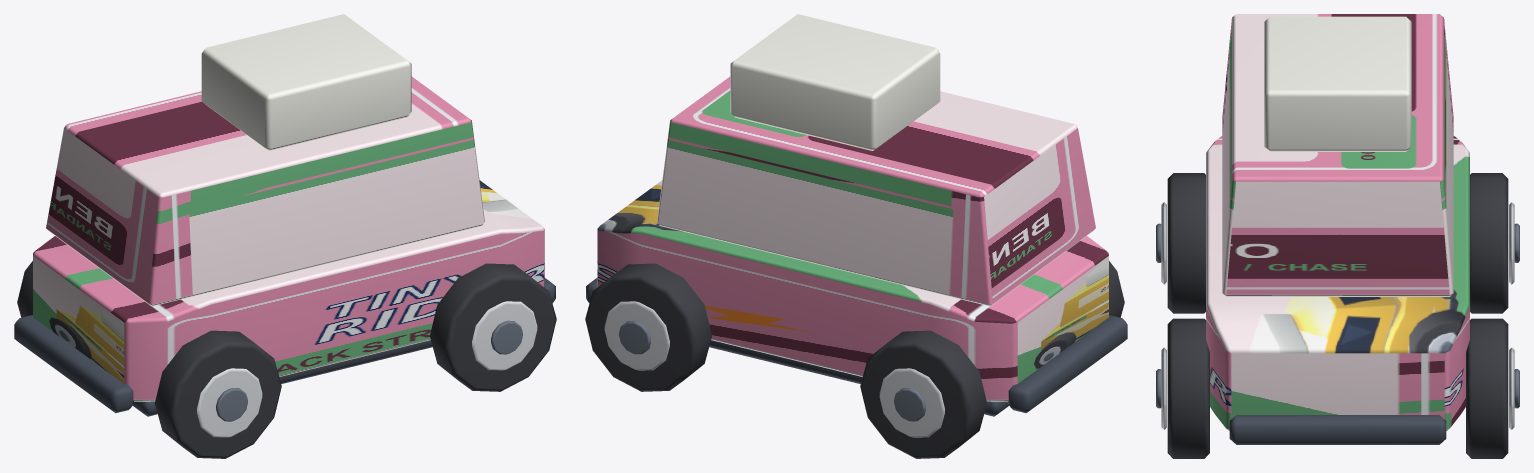
The picture shows the model from 3 angles, left to right: view 1: azimuth 30°, elevation 25°; view 2: azimuth 150°, elevation 25°; view 3: azimuth 270°, elevation 25°; orthographic projection. The views are drawn at different scales.
Parts seen in each view (by area): view 1: SS-04_cabin, SS-04_connected_shell, lunch box, Tire, Tire.002, front bumper, Rim, Rim.002, underbody, Hub.002, Hub, Tire.001; view 2: SS-04_cabin, SS-04_connected_shell, lunch box, Tire.001, Tire.003, front bumper, Rim.001, Rim.003, underbody, Hub.003, Hub.001, Tire; view 3: SS-04_cabin, SS-04_connected_shell, lunch box, rear bumper, Tire.002, Tire.003, Tire, Tire.001, Rim, Rim.001, Rim.002, Rim.003.
Boxes of the visible parts, bbox=[...] form: SS-04_cabin: bbox=[46, 76, 484, 306]; SS-04_connected_shell: bbox=[33, 180, 544, 401]; lunch box: bbox=[201, 14, 411, 150]; Tire: bbox=[155, 330, 281, 458]; Tire.002: bbox=[430, 263, 556, 391]; front bumper: bbox=[14, 315, 133, 413]; Rim: bbox=[197, 368, 262, 437]; Rim.002: bbox=[472, 301, 537, 370]; underbody: bbox=[132, 340, 432, 416]; Hub.002: bbox=[491, 320, 522, 354]; Hub: bbox=[216, 388, 247, 421]; Tire.001: bbox=[17, 261, 32, 317]; SS-04_cabin: bbox=[657, 76, 1095, 306]; SS-04_connected_shell: bbox=[597, 180, 1108, 401]; lunch box: bbox=[730, 14, 940, 150]; Tire.001: bbox=[860, 330, 986, 458]; Tire.003: bbox=[585, 263, 711, 391]; front bumper: bbox=[1008, 315, 1127, 413]; Rim.001: bbox=[879, 368, 944, 437]; Rim.003: bbox=[604, 301, 669, 370]; underbody: bbox=[709, 340, 1009, 416]; Hub.003: bbox=[619, 320, 650, 354]; Hub.001: bbox=[894, 388, 925, 421]; Tire: bbox=[1109, 261, 1124, 317]; SS-04_cabin: bbox=[1222, 14, 1453, 296]; SS-04_connected_shell: bbox=[1206, 136, 1469, 430]; lunch box: bbox=[1264, 16, 1411, 151]; rear bumper: bbox=[1229, 415, 1446, 444]; Tire.002: bbox=[1167, 318, 1209, 458]; Tire.003: bbox=[1466, 318, 1508, 458]; Tire: bbox=[1167, 173, 1205, 313]; Tire.001: bbox=[1470, 173, 1508, 313]; Rim: bbox=[1161, 202, 1166, 284]; Rim.001: bbox=[1509, 202, 1514, 284]; Rim.002: bbox=[1161, 347, 1166, 429]; Rim.003: bbox=[1509, 347, 1514, 429].
Size of the model in its own units: 341 by 227 by 222.
